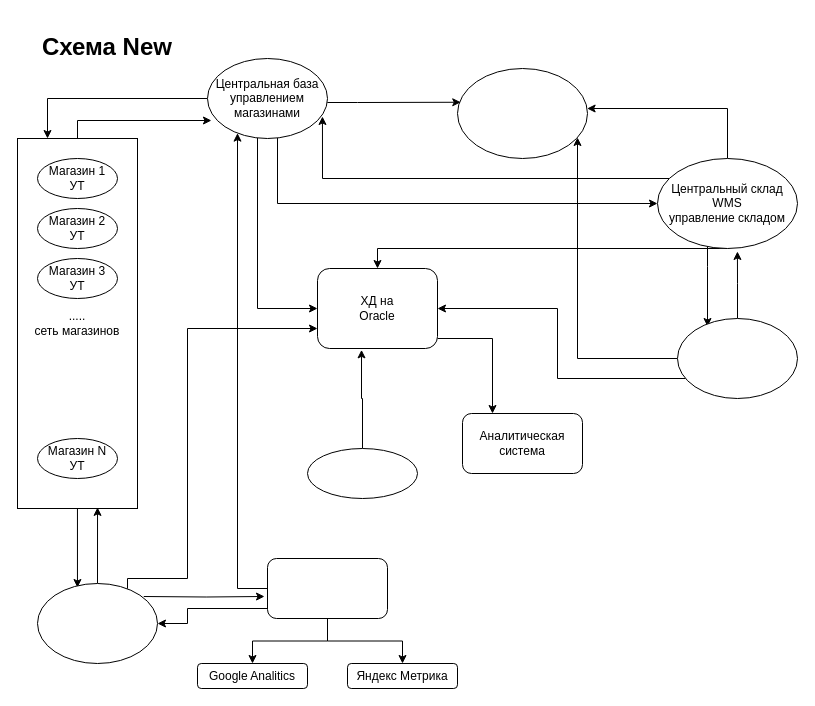
This 815x706 diagram has some shape labels left out. The centre of each missing label's shape, as x and y in pixels:
"Excel планирование" goes at point (362, 473).
"Инетрнет магазин. самописная платформа" goes at point (327, 588).
"Скидочная (бонусная) система" goes at point (97, 623).
"Склад на производстве (Китай)" goes at point (737, 358).
"Центральный офис. Бухгалтерия, Зарплата..." goes at point (522, 113).
